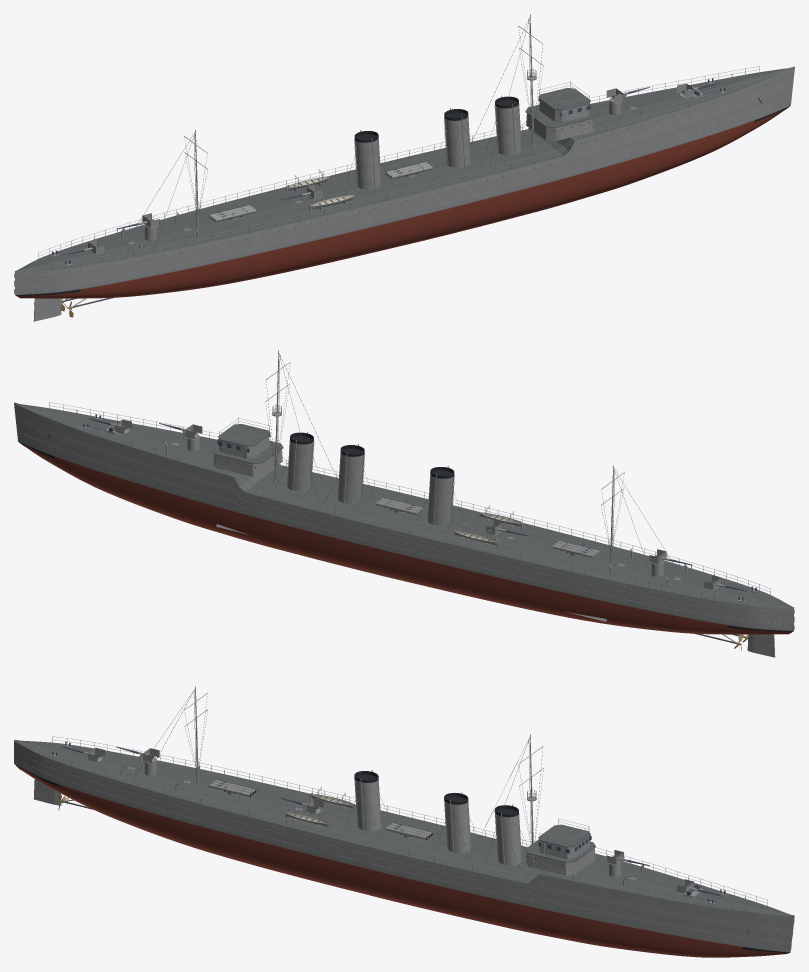
File: chacal.glb
3 renders of one model, top to bottom at view 1: azimuth 30°, elevation 25°; view 2: azimuth 150°, elevation 25°; view 3: azimuth 330°, elevation 25°, orthographic.
Parts seen in each view (by area): view 1: Chacal class (contre-torpilleur); view 2: Chacal class (contre-torpilleur); view 3: Chacal class (contre-torpilleur).
Part boxes in pixels (<box>): Chacal class (contre-torpilleur): <box>14,14,794,321</box>; Chacal class (contre-torpilleur): <box>14,350,794,657</box>; Chacal class (contre-torpilleur): <box>14,686,794,957</box>.
Bounding box in the file's own units: 127 × 29.28 × 11.52.
Materials: 8 (2 with a texture image).
